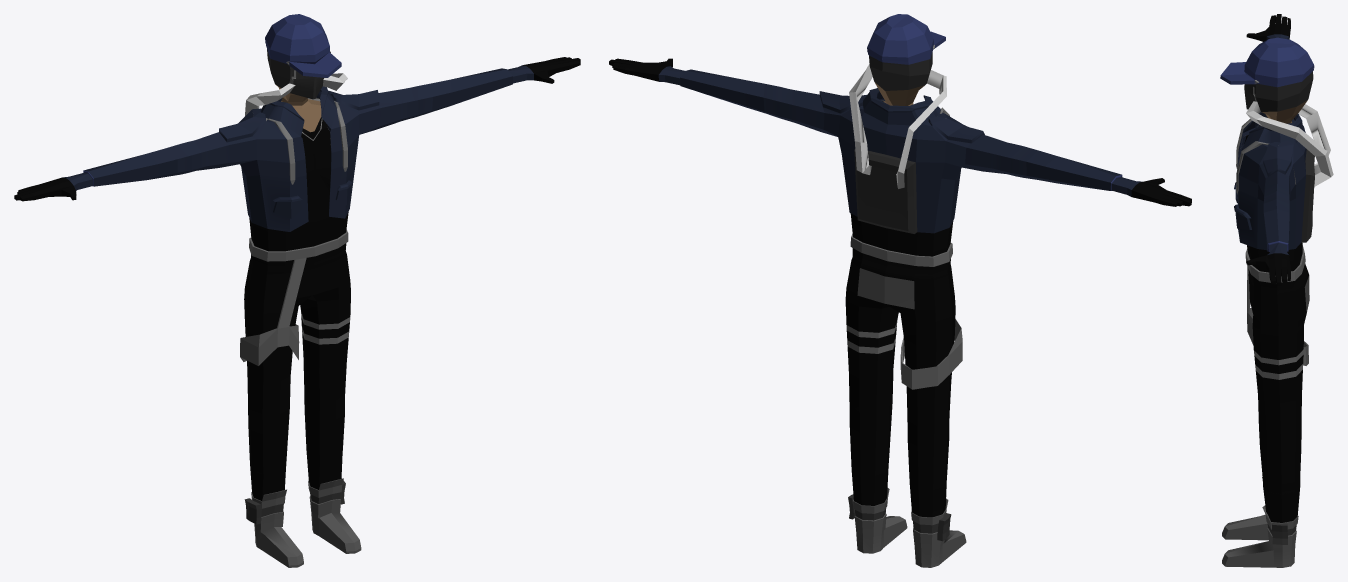
File: HoustenModel.fbx
The picture shows the model from 3 angles, left to right: view 1: azimuth 30°, elevation 25°; view 2: azimuth 150°, elevation 25°; view 3: azimuth 270°, elevation 25°; orthographic projection. The views are drawn at different scales.
Parts seen in each view (by area): view 1: polySurface1; view 2: polySurface1; view 3: polySurface1.
Part boxes in pixels (bbox=[...]): polySurface1: bbox=[14, 14, 580, 567]; polySurface1: bbox=[609, 14, 1191, 567]; polySurface1: bbox=[1220, 14, 1333, 567].
Size of the model in its own units: 194 by 170 by 34.49.
